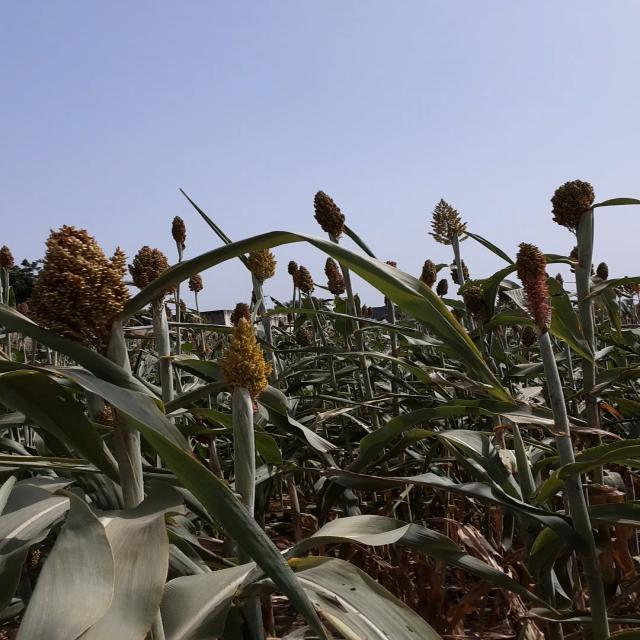UnripeSorghum: (18, 223, 163, 335), (207, 308, 319, 419)
